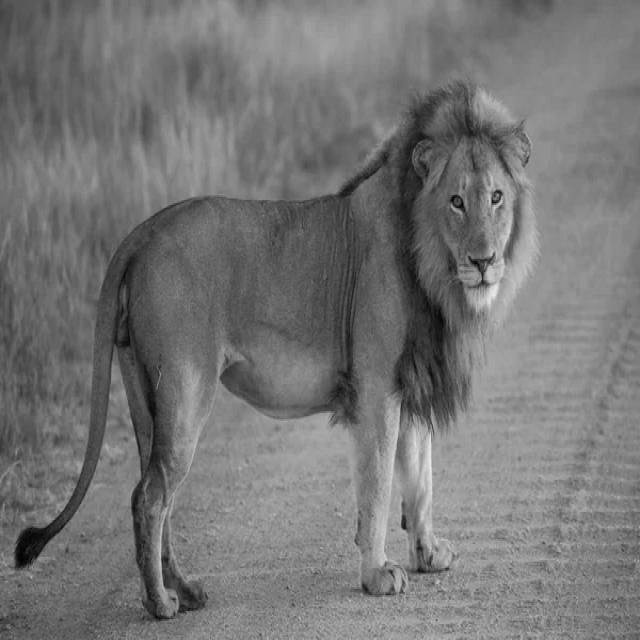Animal: (15, 82, 536, 620)
